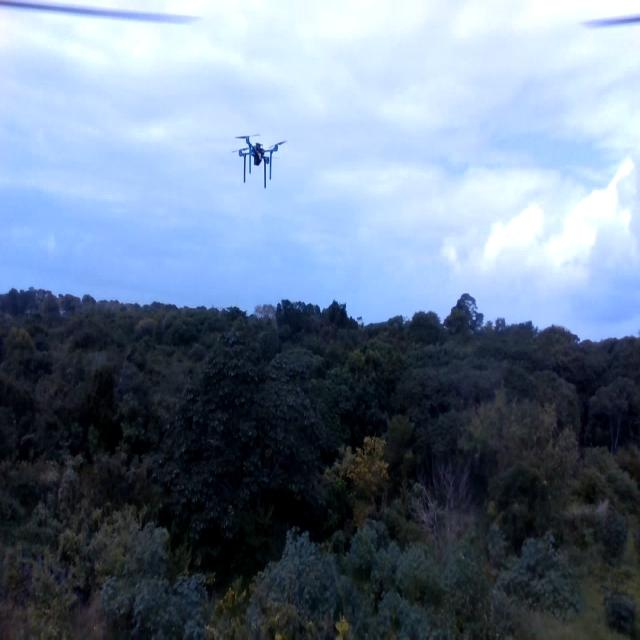-uav-: (225, 117, 290, 203)
